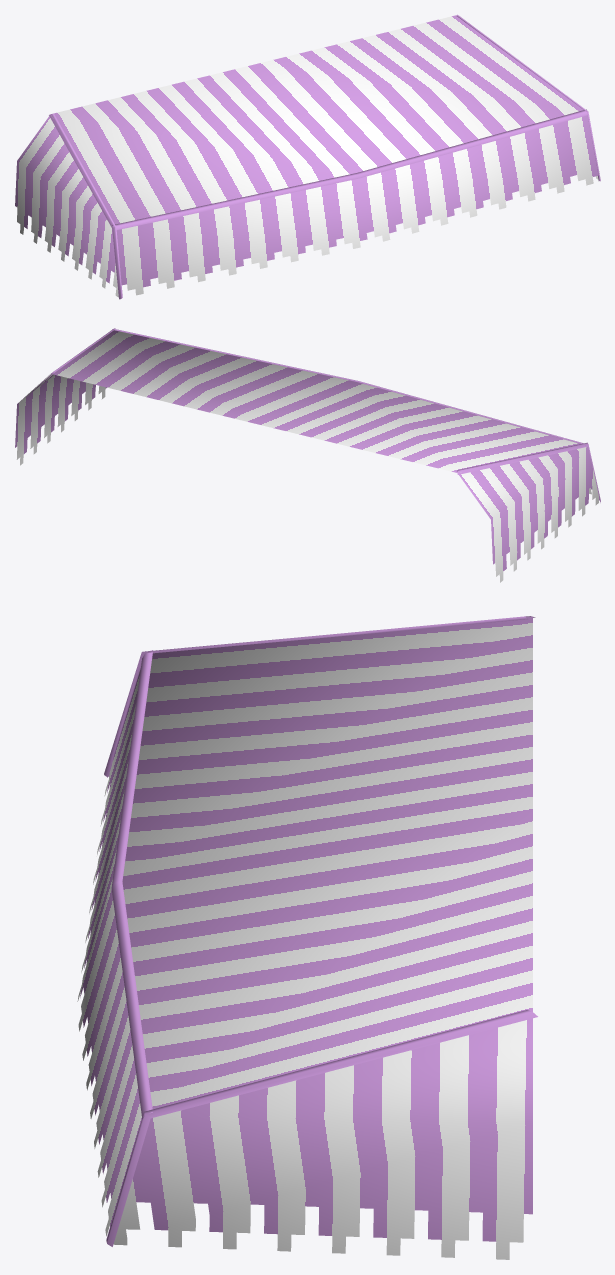
File: Awning.fbx
The picture shows the model from 3 angles, top to bottom: view 1: azimuth 30°, elevation 25°; view 2: azimuth 150°, elevation 25°; view 3: azimuth 270°, elevation 25°; orthographic projection. The views are drawn at different scales.
Parts seen in each view (by area): view 1: Plane.008; view 2: Plane.008; view 3: Plane.008.
Part boxes in pixels (<box>): Plane.008: <box>15,14,600,299</box>; Plane.008: <box>15,328,600,582</box>; Plane.008: <box>77,616,537,1259</box>.
Size of the model in its own units: 150 by 31.89 by 62.5.
